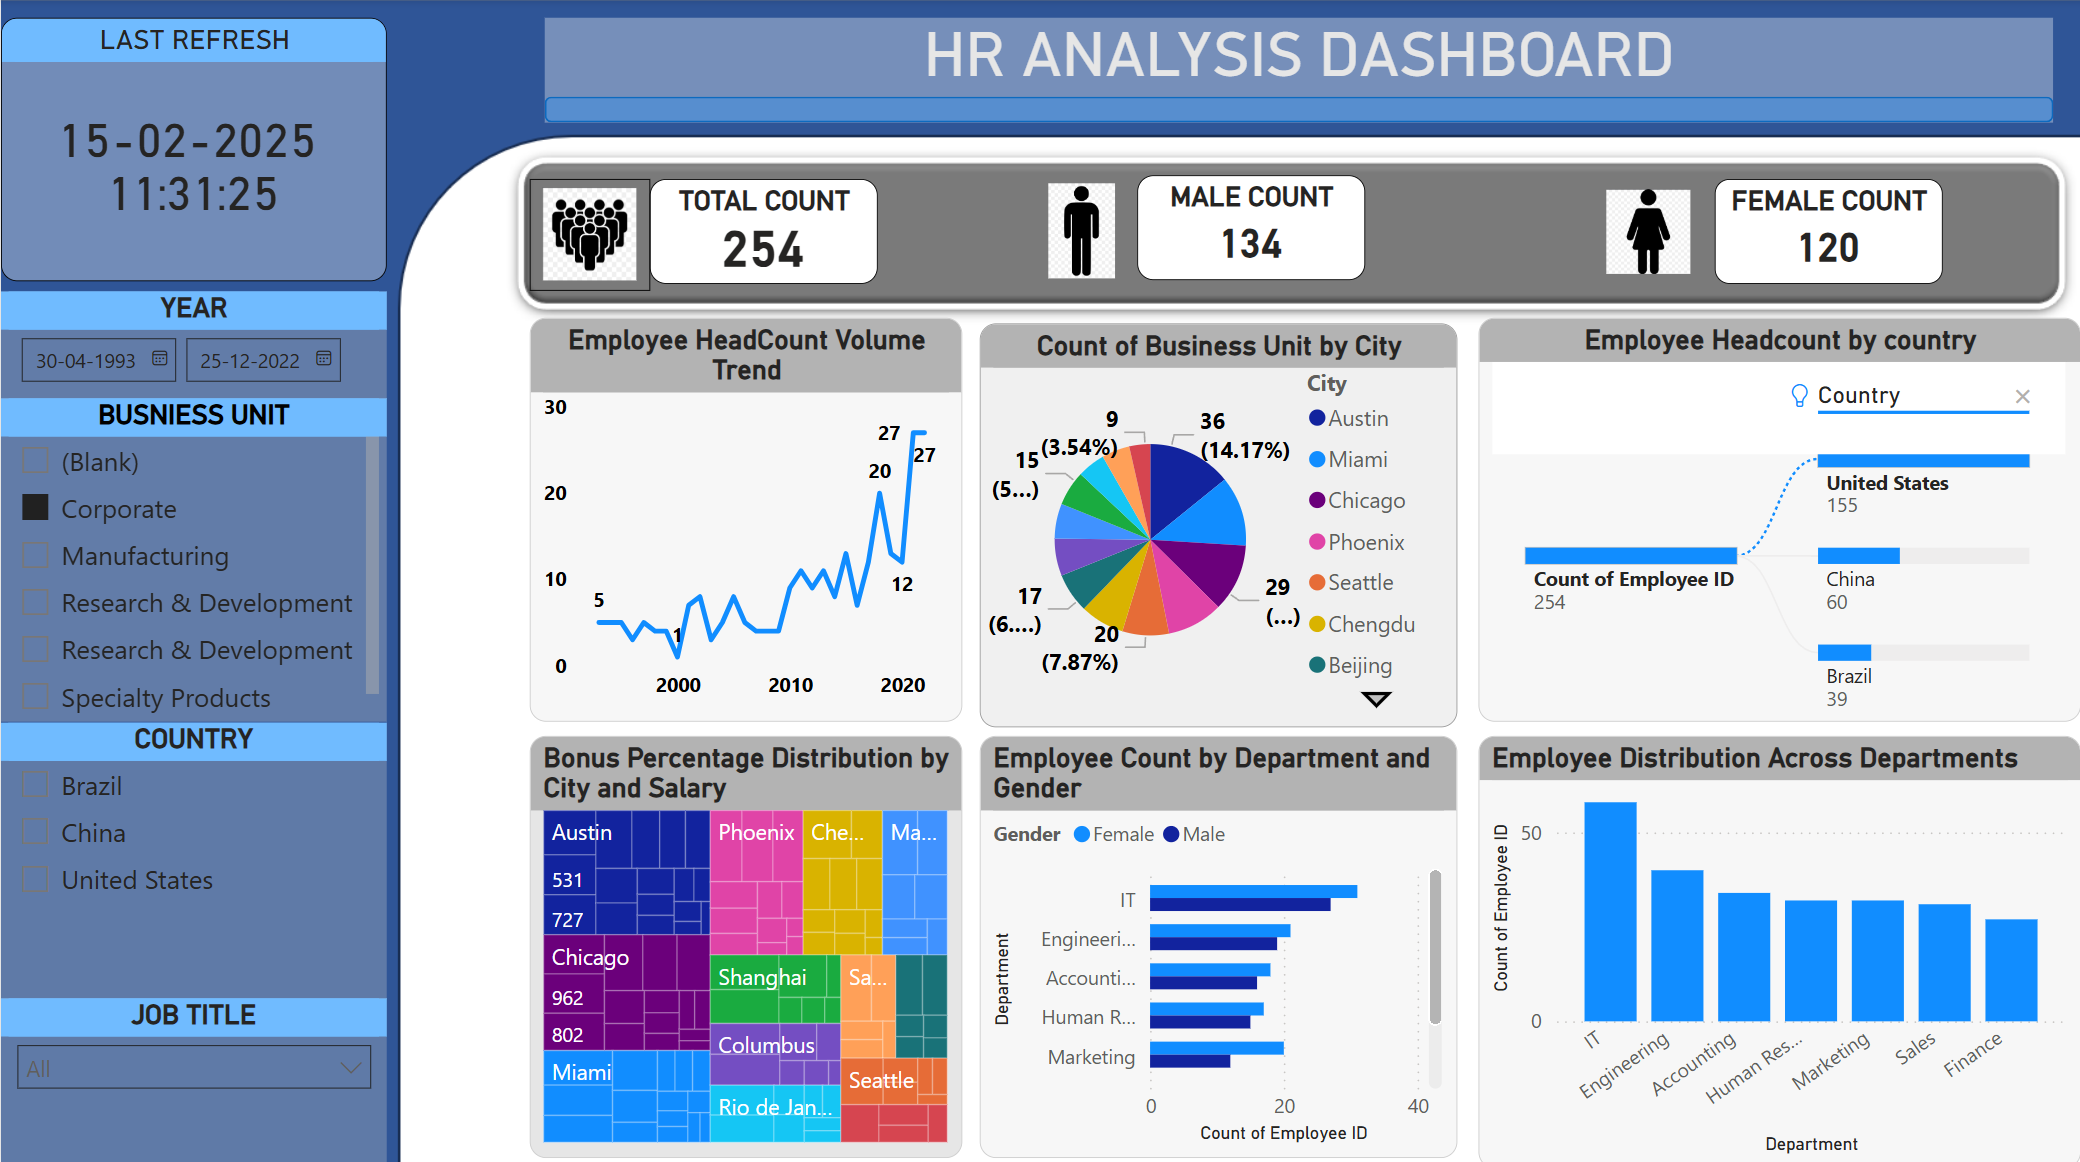

The page's visual inventory and layout, read from the dashboard file:
{"tool":"powerbi","page":{"name":"HR analysis","canvas":[1280,720],"ordinal":0},"visuals":[{"type":"clusteredBarChart","title":"Employee Count by Department and Gender","fields":{"Series":["Employee Data.Gender"],"Y":["CountNonNull(Employee Data.Employee ID)"],"Category":["Employee Data.Department"]},"box":[602.7,453.1,293.8,259.5],"z":0},{"type":"pieChart","fields":{"Y":["CountNonNull(Employee Data.Business Unit)"],"Category":["Employee Data.City"]},"box":[602.7,199.1,293.8,248.5],"z":1000},{"type":"treemap","title":"Bonus Percentage Distribution by City and Salary","fields":{"Details":["Employee Data.Annual Salary"],"Values":["Sum(Employee Data.Bonus %)"],"Group":["Employee Data.City"]},"box":[325.4,453.1,266.4,259.5],"z":2000},{"type":"lineChart","title":"Employee HeadCount Volume Trend","fields":{"Y":["CountNonNull(Employee Data.Employee ID)"],"Category":["Employee Data.Hire Date.Variation.Date Hierarchy.Year"]},"box":[325.4,196.3,266.4,248.5],"z":3000},{"type":"card","title":"TOTAL COUNT","fields":{"Values":["CountNonNull(Employee Data.Employee ID)"]},"box":[399.5,111.2,140,64.5],"z":4000},{"type":"decompositionTreeVisual","title":"Employee Headcount by country","fields":{"Analyze":["CountNonNull(Employee Data.Employee ID)"],"ExplainBy":["Employee Data.Country"]},"box":[908.9,196.3,370.7,248.5],"z":5000},{"type":"columnChart","title":"Employee Distribution Across Departments","fields":{"Category":["Employee Data.Department"],"Y":["CountNonNull(Employee Data.Employee ID)"]},"box":[908.9,453.1,370.7,266.4],"z":6000},{"type":"slicer","title":" YEAR","fields":{"Values":["Employee Data.Hire Date"]},"box":[0,179.9,237.5,65.9],"z":7000},{"type":"slicer","title":"COUNTRY","fields":{"Values":["Employee Data.Country"]},"box":[0,444.9,237.5,170.3],"z":8000},{"type":"slicer","title":"JOB TITLE","fields":{"Values":["Employee Data.Job Title"]},"box":[0,615.1,237.5,104.3],"z":9000},{"type":"card","title":"LAST REFRESH","fields":{"Values":["Min(Query1.Query1)"]},"box":[0,11,237.5,149.7],"z":10000},{"type":"slicer","title":"BUSNIESS UNIT ","fields":{"Values":["Employee Data.Business Unit"]},"box":[0,245.8,237.5,199.1],"z":11000},{"type":"shape","title":"HR ANALYSIS DASHBOARD","box":[335,11,928.1,64.5],"z":12000},{"type":"card","title":"MALE COUNT","fields":{"Values":["Employee Data.Measure 3"]},"box":[698.9,108.5,140,64.5],"z":13000},{"type":"card","title":"FEMALE COUNT","fields":{"Values":["Employee Data.Measure 2"]},"box":[1054.5,111.2,140,64.5],"z":14000},{"type":"image","box":[631.6,108.5,67.3,68.6],"z":15000},{"type":"image","box":[325.4,111.2,74.1,68.6],"z":16000},{"type":"image","box":[983.1,107.1,61.8,71.4],"z":17000}]}

Visuals, with their boxes in screenshot pixels (x1, y1, x2, y2), scaled from the page's 1280x720 canvas onto the 2080x1162 screenshot:
"Employee Count by Department and Gender" clusteredBarChart: 979 731 1457 1150
pieChart - CountNonNull(Employee Data.Business Unit) x Employee Data.City: 979 321 1457 722
"Bonus Percentage Distribution by City and Salary" treemap: 529 731 962 1150
"Employee HeadCount Volume Trend" lineChart: 529 317 962 718
"TOTAL COUNT" card: 649 179 877 284
"Employee Headcount by country" decompositionTreeVisual: 1477 317 2079 718
"Employee Distribution Across Departments" columnChart: 1477 731 2079 1161
" YEAR" slicer: 0 290 386 397
"COUNTRY" slicer: 0 718 386 993
"JOB TITLE" slicer: 0 993 386 1161
"LAST REFRESH" card: 0 18 386 259
"BUSNIESS UNIT " slicer: 0 397 386 718
"HR ANALYSIS DASHBOARD" shape: 544 18 2053 122
"MALE COUNT" card: 1136 175 1363 279
"FEMALE COUNT" card: 1714 179 1941 284
image: 1026 175 1136 286
image: 529 179 649 290
image: 1598 173 1698 288
